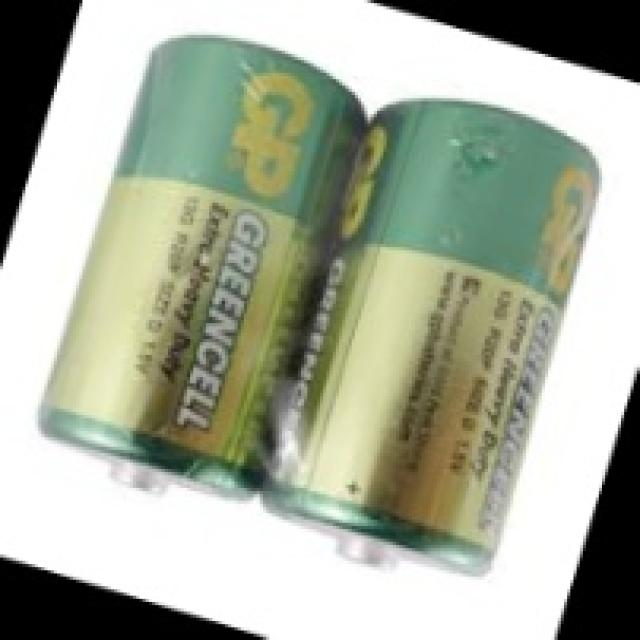elektronik: (46, 34, 592, 575)
